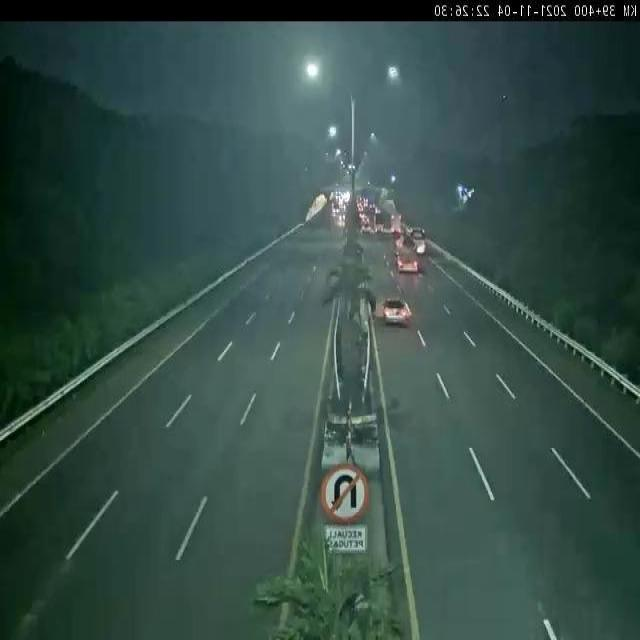Bus: (408, 224, 428, 257)
Car: (394, 230, 420, 283), (379, 290, 409, 332)
